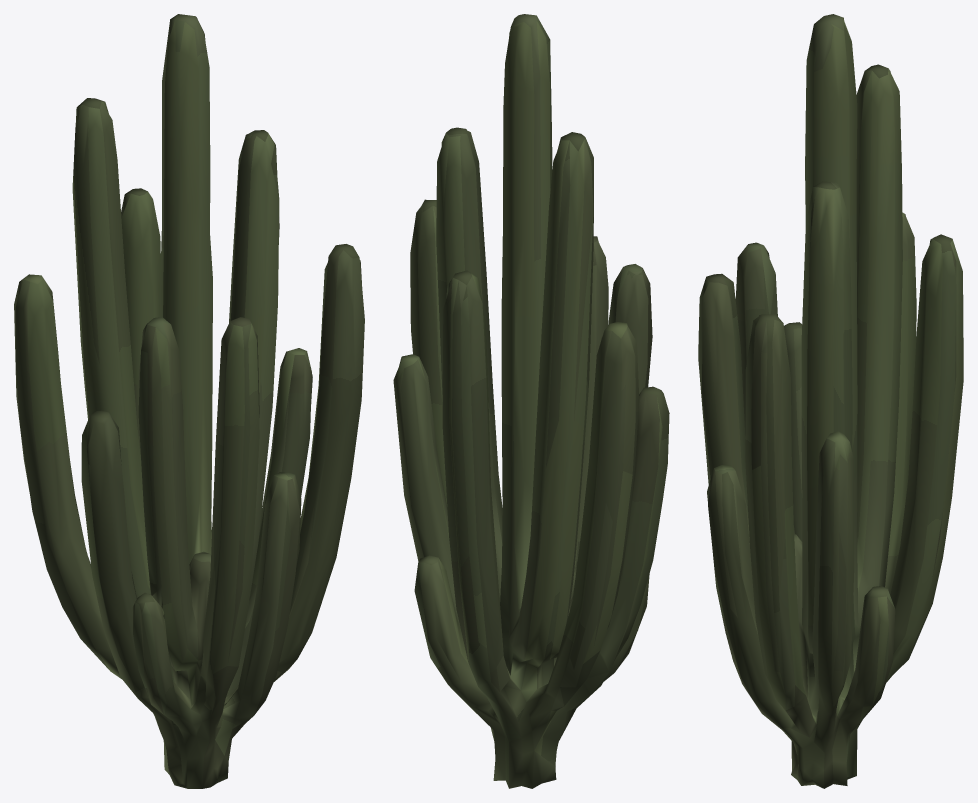
Rendered from organ_pipe.glb.
3 renders of one model, left to right at view 1: azimuth 30°, elevation 25°; view 2: azimuth 150°, elevation 25°; view 3: azimuth 270°, elevation 25°, orthographic.
Visible parts, largest first — view 1: LO.001; view 2: LO.001; view 3: LO.001.
Part boxes in pixels (box(x1,y1,x2,y2)): LO.001: box(14, 14, 364, 788); LO.001: box(393, 14, 669, 788); LO.001: box(698, 14, 963, 788).
Bounding box in the file's own units: 1.76 × 4.49 × 1.43.
1 material, 1 textured.
